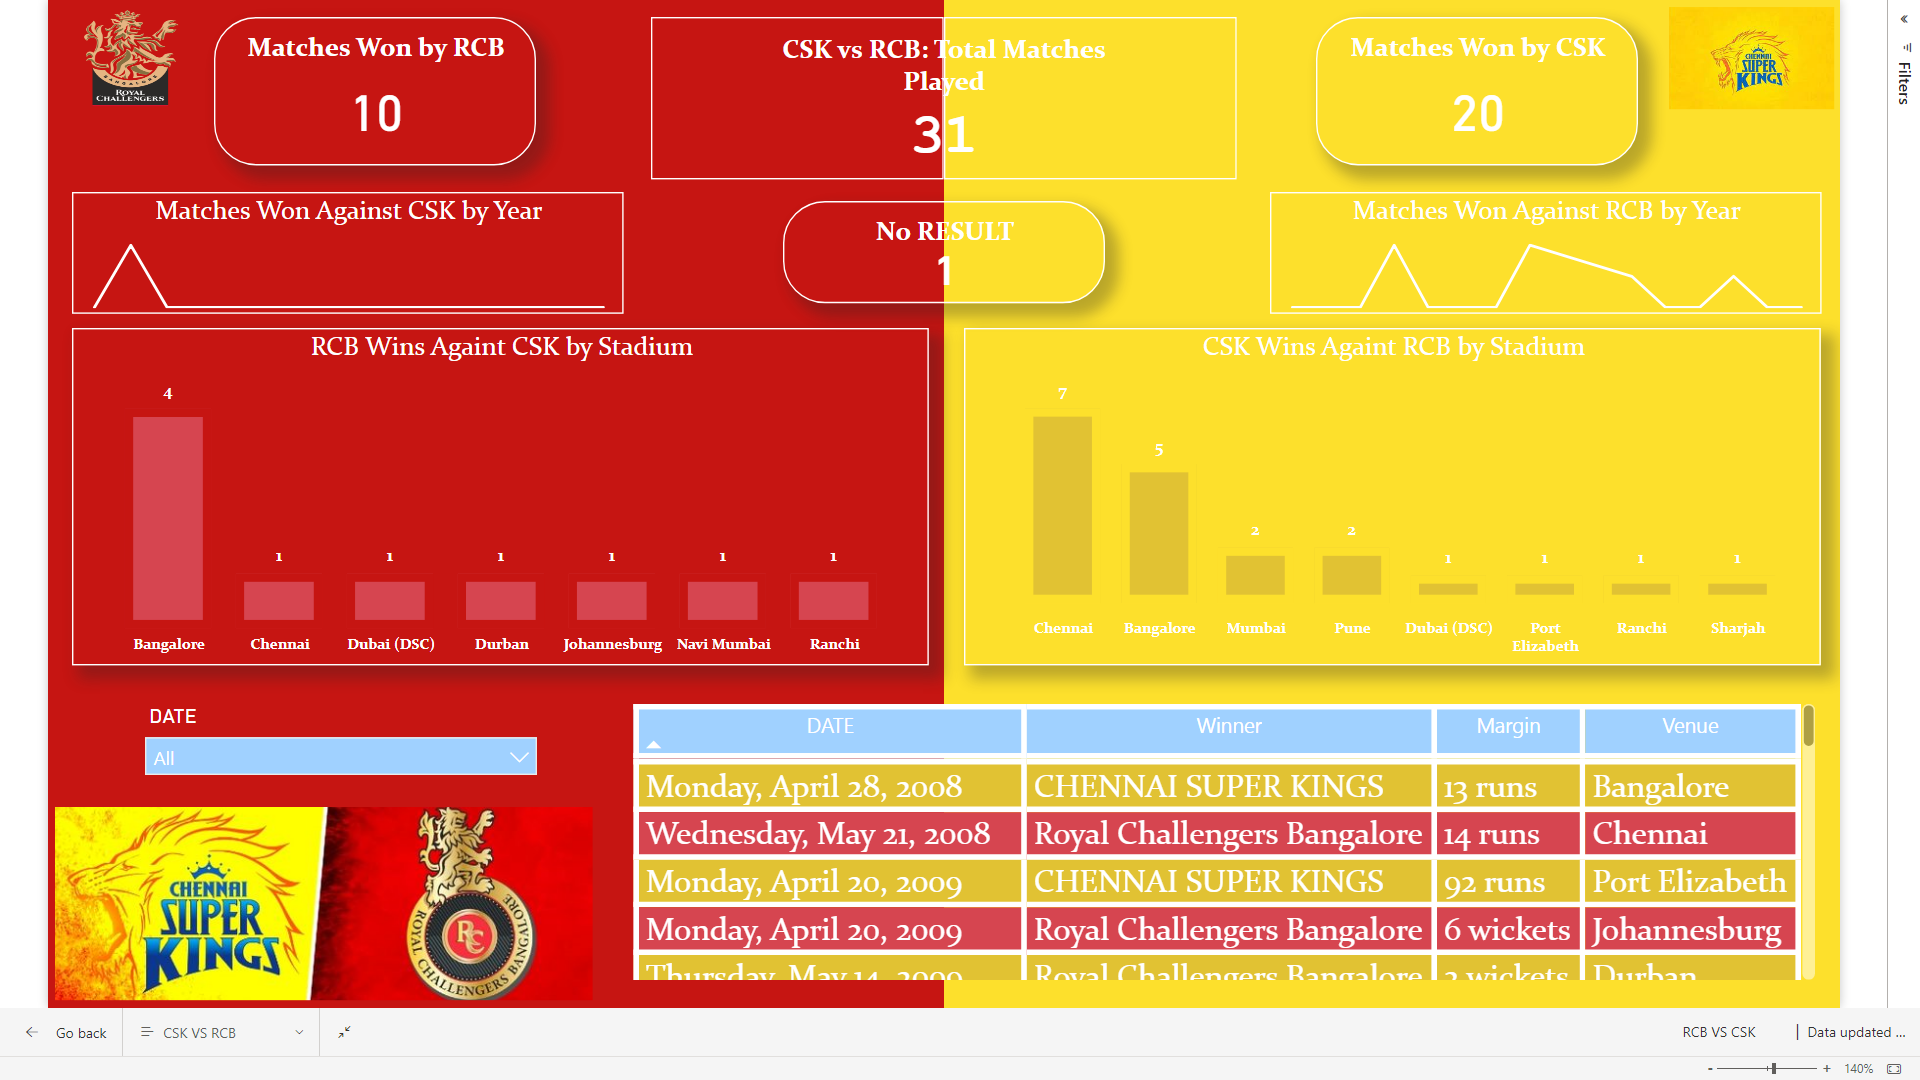

What the dashboard file says about the page in this screenshot:
{"tool":"powerbi","page":{"name":"CSK VS RCB","canvas":[1280,720],"ordinal":0},"visuals":[{"type":"shape","box":[640.3,0,640.3,720],"z":0},{"type":"shape","box":[640.4,12.5,209.3,115.6],"z":0,"group":"g1"},{"type":"image","box":[1152.6,0,128.1,82.8],"z":1000},{"type":"shape","box":[431.1,12.5,209.3,115.6],"z":1000,"group":"g1"},{"type":"image","box":[0,0,118.7,82.8],"z":2000},{"type":"group","id":"g1","title":"Group 1","box":[431.1,12.5,418.6,115.6],"z":3000},{"type":"card","title":"CSK vs RCB: Total Matches Played","fields":{"Values":["Sum(Table 1.Matches)"]},"box":[488.9,23.4,303,92.1],"z":4000},{"type":"card","title":"Matches Won by CSK","fields":{"Values":["Sum(Table 1.CSK Won)"]},"box":[905.9,12.5,229.6,106.2],"z":5000},{"type":"card","title":"Matches Won by RCB","fields":{"Values":["Sum(Table 1.RCB Won)"]},"box":[118.7,12.5,229.6,106.2],"z":6000},{"type":"card","title":"No RESULT","fields":{"Values":["Sum(Table 1.No Result)"]},"box":[524.8,143.7,229.6,73.4],"z":7000},{"type":"clusteredColumnChart","title":"RCB Wins Againt CSK  by Stadium","fields":{"Category":["Table 2.Venue"],"Y":["CountNonNull(Table 2.winner rcb)"]},"box":[17.2,234.3,612.2,240.5],"z":8000},{"type":"clusteredColumnChart","title":"CSK Wins Againt RCB  by Stadium","fields":{"Category":["Table 2.Venue"],"Y":["CountNonNull(Table 2.WINNER CSK)"]},"box":[654.4,234.3,612.2,240.5],"z":9000},{"type":"lineChart","title":"Matches Won Against RCB by Year","fields":{"Category":["Table 2.Date.Variation.Date Hierarchy.Year"],"Y":["CountNonNull(Table 2.WINNER CSK)"]},"box":[873.1,137.4,393.6,87.5],"z":10000},{"type":"lineChart","title":"Matches Won Against CSK by Year","fields":{"Category":["Table 2.Date.Variation.Date Hierarchy.Year"],"Y":["CountNonNull(Table 2.winner rcb)"]},"box":[17.2,137.4,393.6,87.5],"z":11000},{"type":"tableEx","fields":{"Values":["Year Wise.Column1","Table 2.Winner","Table 2.Margin","Table 2.Venue"]},"box":[431.1,498.2,835.6,206.2],"z":12000},{"type":"slicer","fields":{"Values":["Year Wise.Column1"]},"box":[59.3,498.2,299.9,73.4],"z":13000},{"type":"image","box":[0,571.6,393.6,148.4],"z":14000}]}

Visuals, with their boxes in screenshot pixels (x1, y1, x2, y2):
shape: Rect(934, 0, 1847, 1017)
shape: Rect(934, 8, 1232, 173)
image: Rect(1665, 0, 1847, 108)
shape: Rect(635, 8, 934, 173)
image: Rect(20, 0, 189, 108)
"Group 1" group: Rect(635, 8, 1232, 173)
"CSK vs RCB: Total Matches Played" card: Rect(718, 23, 1150, 155)
"Matches Won by CSK" card: Rect(1313, 8, 1640, 159)
"Matches Won by RCB" card: Rect(189, 8, 517, 159)
"No RESULT" card: Rect(769, 195, 1096, 300)
"RCB Wins Againt CSK  by Stadium" clusteredColumnChart: Rect(45, 324, 918, 667)
"CSK Wins Againt RCB  by Stadium" clusteredColumnChart: Rect(954, 324, 1827, 667)
"Matches Won Against RCB by Year" lineChart: Rect(1266, 186, 1827, 311)
"Matches Won Against CSK by Year" lineChart: Rect(45, 186, 606, 311)
tableEx - Year Wise.Column1 x Table 2.Winner: Rect(635, 701, 1827, 995)
slicer - Year Wise.Column1: Rect(105, 701, 533, 806)
image: Rect(20, 806, 582, 1017)
